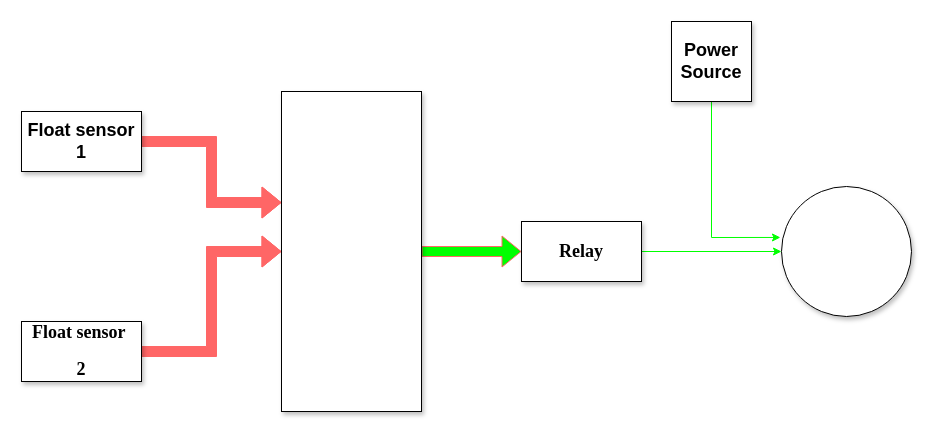
Some shapes in this 935 by 436 pixel diagram are drawn without their labels. Here are the shapes that lost their labels. From the top down, the centre of each, then its label:
(352,252): Atmega328 Micro- controller
(847,253): Motor/Pump
